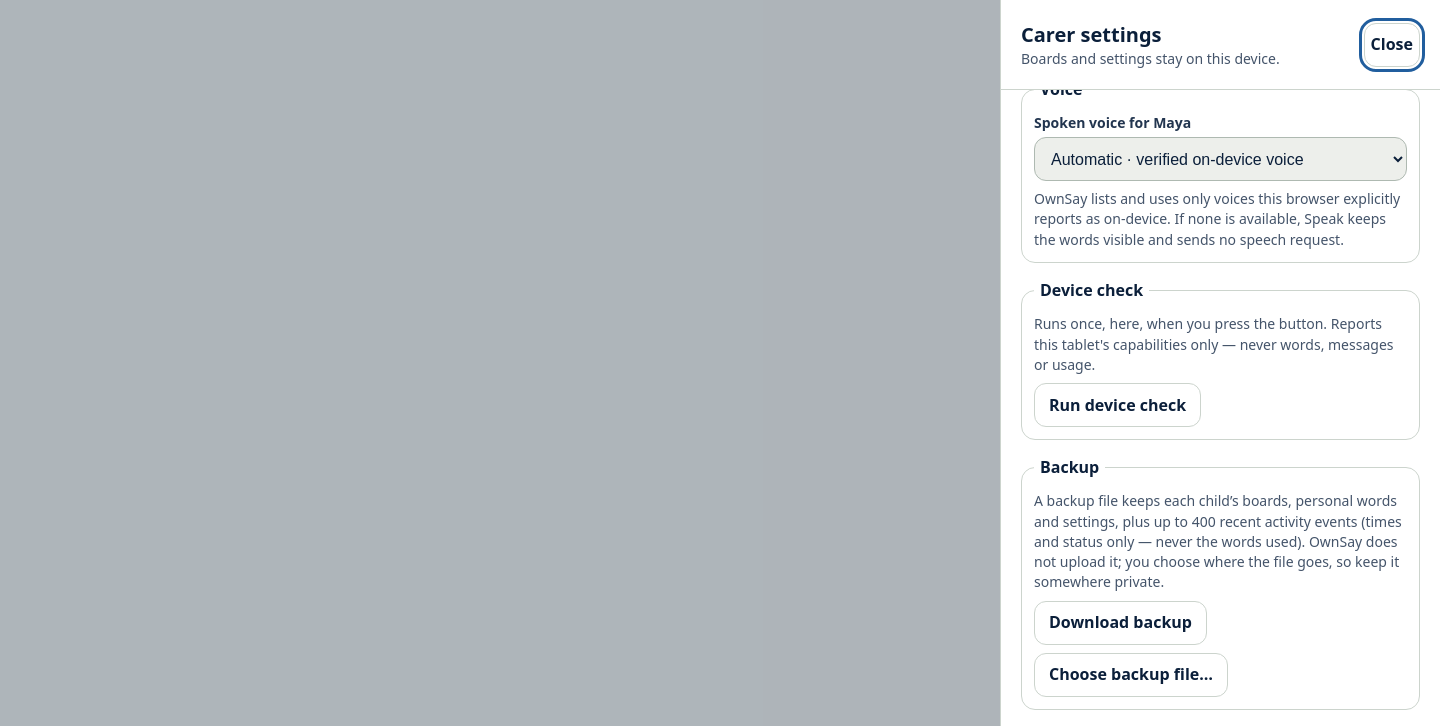
Test case: carer drawer › device check audible proof › shows a stopped outcome after a timeout, again without any ready claim
The width and height of the screenshot is (1440, 726).
(page scrolled)
Click the button "Run device check".
click(1118, 405)  # box [1034,383,1201,427]
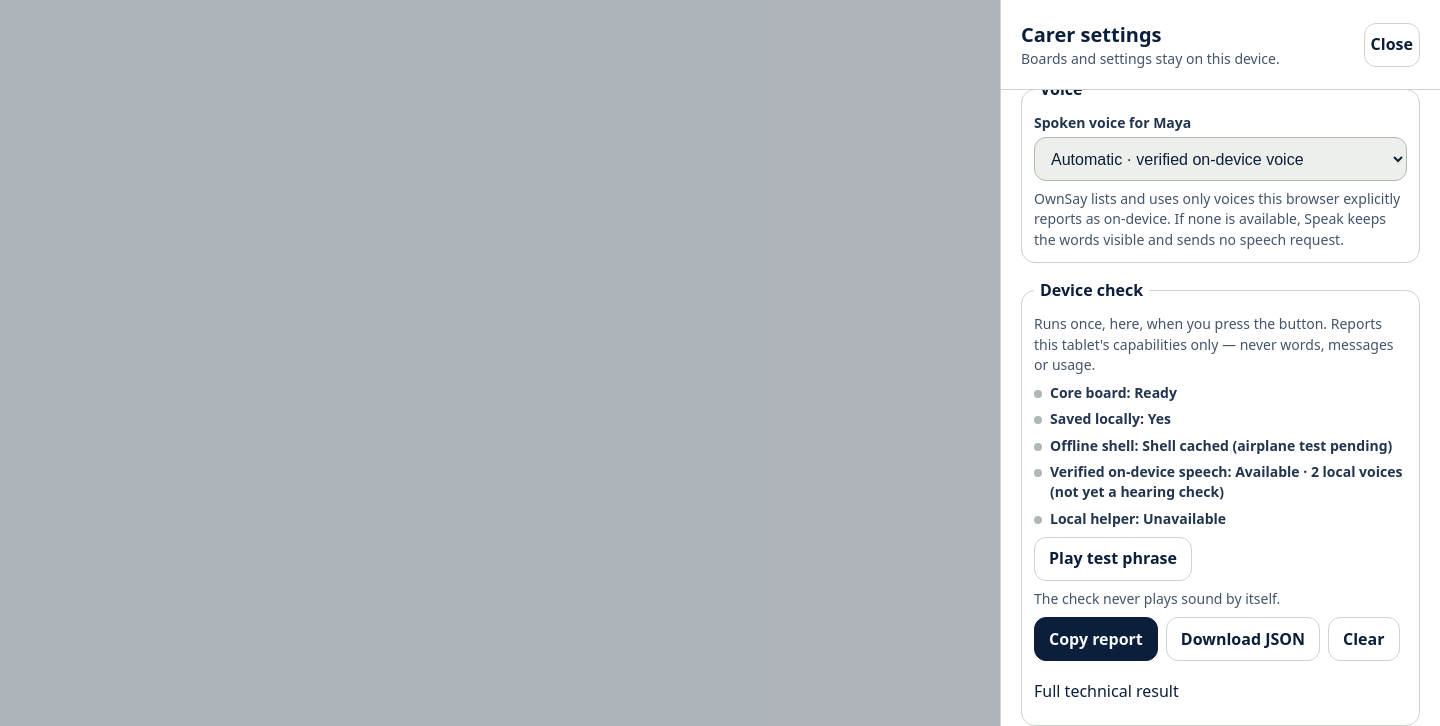
Check: the list item "Verified on-device speech:" is shown, box [1050,462,1232,481]
Click the button "Play test phrase".
click(1113, 559)  # box [1034,537,1192,581]
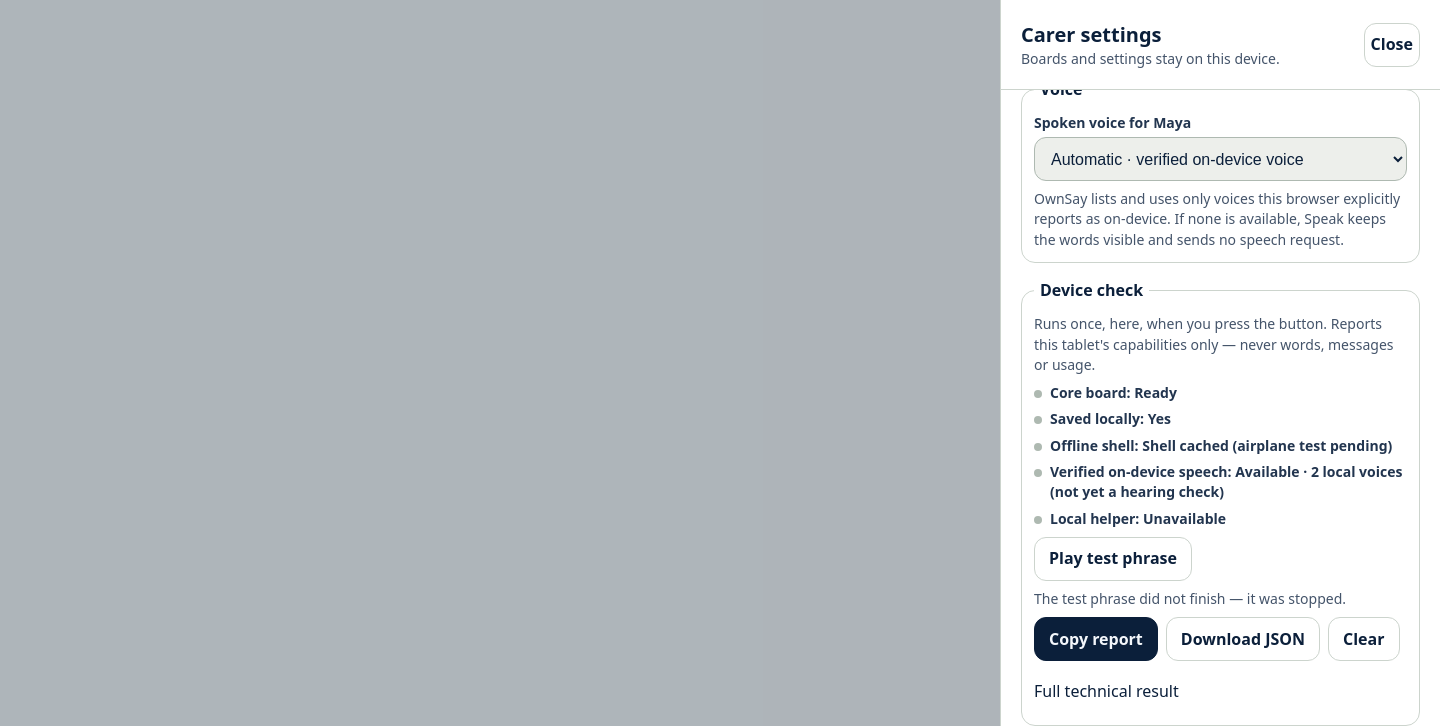
Check: the text "The test phrase did not finish — it was stopped." is shown, box [1034,589,1346,608]
